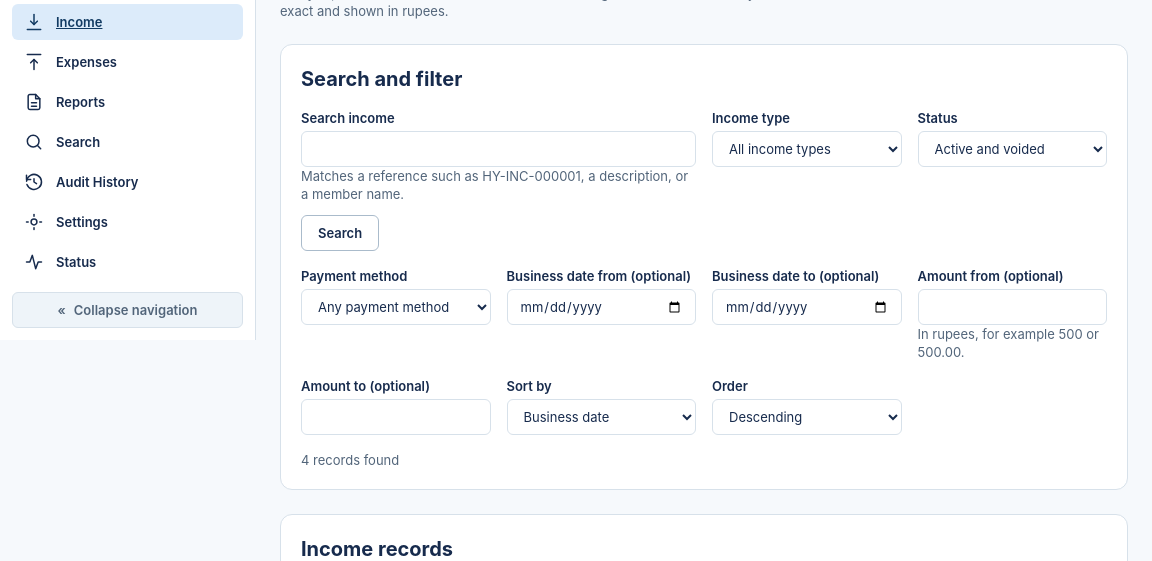
Test: searching and filtering income › sends the search term to the API and narrows the rows it shows
The width and height of the screenshot is (1152, 561).
Type "HY-INC-000002" into the search field labelled "Search income" at coordinates (498, 149), box [301,131,696,167]
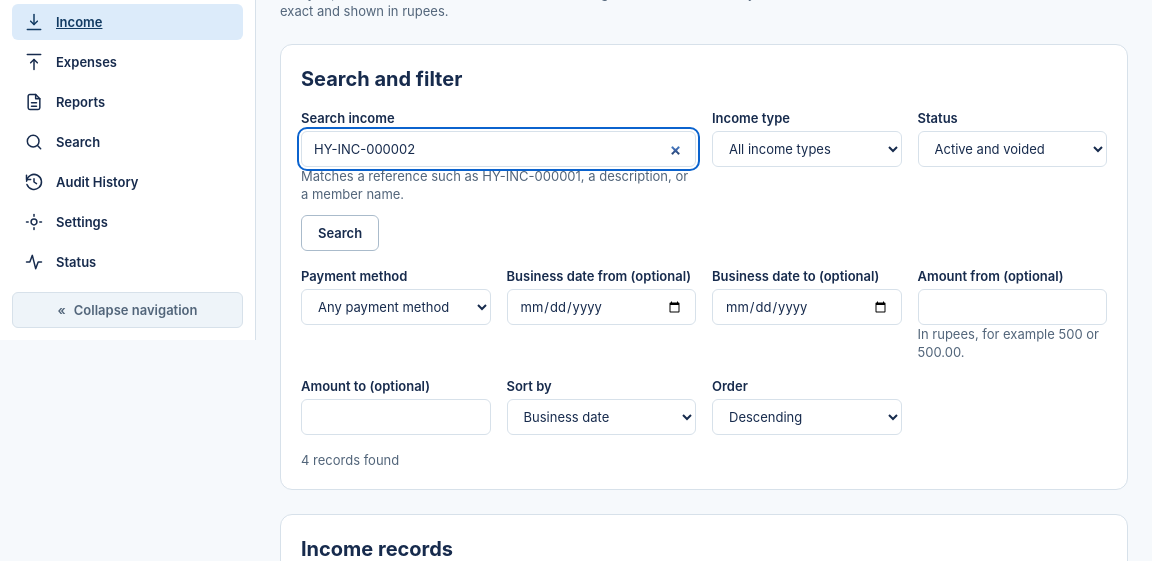
Click the button "Search" at coordinates (340, 233), box [301,215,379,251]
(page scrolled)
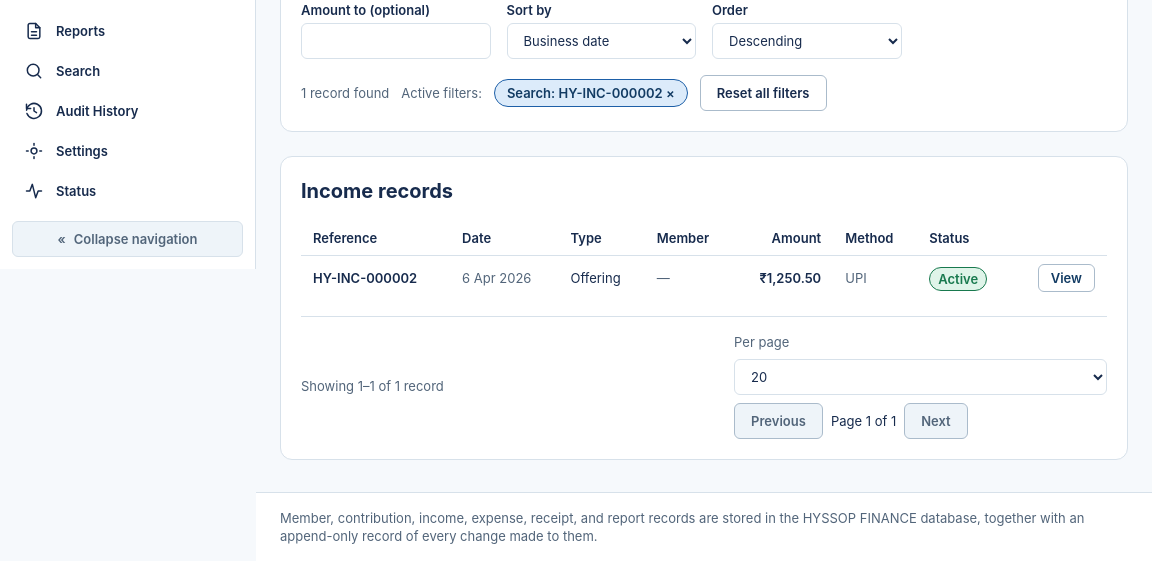
expect the text "HY-INC-000002" is shown: met, box [301,256,450,300]
expect the text with test id "result-count" reads "1 record found": met, box [301,85,389,101]
